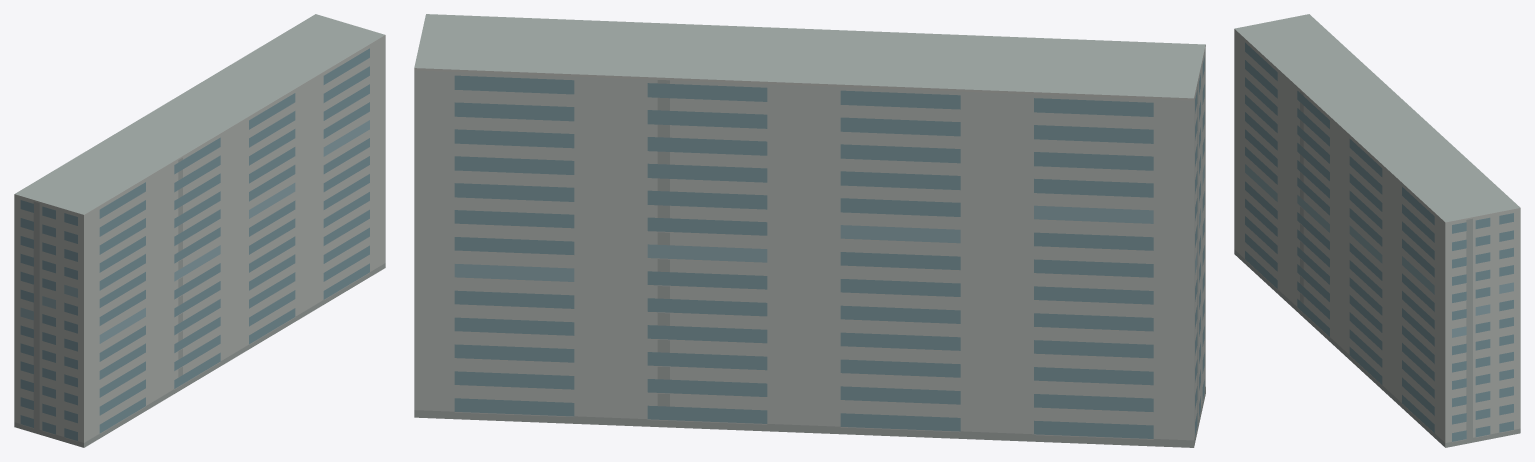
File: residential-e904afd1-d678-49d0-a29a-5dab4d19cdb5.glb
3 renders of one model, left to right at view 1: azimuth 30°, elevation 25°; view 2: azimuth 150°, elevation 25°; view 3: azimuth 270°, elevation 25°, orthographic. The views are drawn at different scales.
Visible parts, largest first — view 1: residential-e904afd1-d678-49d0-a29a-5dab4d19cdb5.tmp; view 2: residential-e904afd1-d678-49d0-a29a-5dab4d19cdb5.tmp; view 3: residential-e904afd1-d678-49d0-a29a-5dab4d19cdb5.tmp.
Part boxes in pixels (left/top/right/bottom): residential-e904afd1-d678-49d0-a29a-5dab4d19cdb5.tmp: left=14, top=14, right=385, bottom=447; residential-e904afd1-d678-49d0-a29a-5dab4d19cdb5.tmp: left=414, top=14, right=1205, bottom=447; residential-e904afd1-d678-49d0-a29a-5dab4d19cdb5.tmp: left=1234, top=14, right=1520, bottom=447.
Size of the model in its own units: 73.39 by 37 by 42.61.
